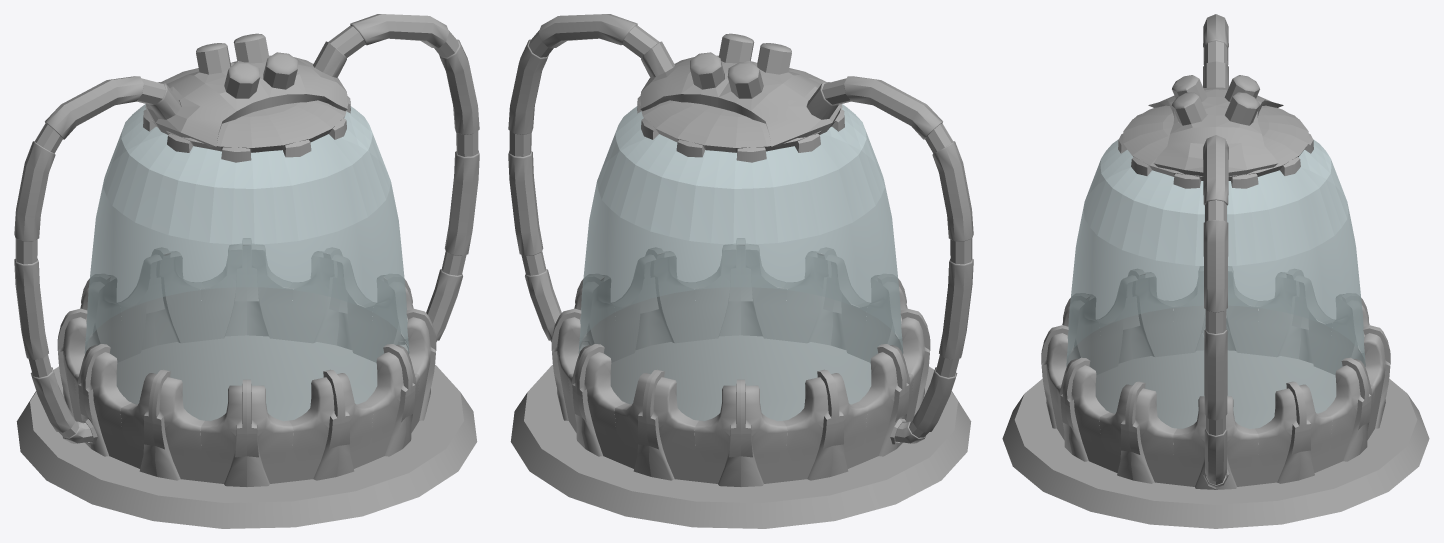
Rendered from Nanite_Container.fbx.
3 renders of one model, left to right at view 1: azimuth 30°, elevation 25°; view 2: azimuth 150°, elevation 25°; view 3: azimuth 270°, elevation 25°, orthographic. The views are drawn at different scales.
Visible parts, largest first — view 1: polySurface48, polySurface86, polySurface153, polySurface138, polySurface160, polySurface143, polySurface166, polySurface159, polySurface161, polySurface155, polySurface165, polySurface49 (+10 smaller); view 2: polySurface48, polySurface86, polySurface153, polySurface138, polySurface156, polySurface143, polySurface162, polySurface157, polySurface155, polySurface161, polySurface163, polySurface49 (+10 smaller); view 3: polySurface48, polySurface86, polySurface138, polySurface163, polySurface165, polySurface143, polySurface157, polySurface159, polySurface49, polySurface164, polySurface158, polySurface162 (+10 smaller).
Boxes of the visible parts, x1=… form: polySurface48: x1=84, y1=104, x2=409, y2=421; polySurface86: x1=16, y1=335, x2=477, y2=528; polySurface153: x1=14, y1=76, x2=180, y2=444; polySurface138: x1=313, y1=14, x2=479, y2=350; polySurface160: x1=200, y1=379, x2=293, y2=486; polySurface143: x1=146, y1=55, x2=347, y2=147; polySurface166: x1=201, y1=238, x2=292, y2=340; polySurface159: x1=120, y1=369, x2=204, y2=481; polySurface161: x1=289, y1=369, x2=373, y2=481; polySurface155: x1=121, y1=248, x2=204, y2=359; polySurface165: x1=289, y1=248, x2=372, y2=359; polySurface49: x1=145, y1=68, x2=348, y2=152; polySurface48: x1=578, y1=104, x2=903, y2=421; polySurface86: x1=510, y1=335, x2=971, y2=528; polySurface153: x1=807, y1=76, x2=973, y2=444; polySurface138: x1=508, y1=14, x2=674, y2=350; polySurface156: x1=694, y1=379, x2=787, y2=486; polySurface143: x1=640, y1=55, x2=841, y2=147; polySurface162: x1=695, y1=238, x2=786, y2=340; polySurface157: x1=783, y1=369, x2=867, y2=481; polySurface155: x1=614, y1=369, x2=698, y2=481; polySurface161: x1=783, y1=248, x2=866, y2=359; polySurface163: x1=615, y1=248, x2=698, y2=359; polySurface49: x1=639, y1=68, x2=842, y2=152; polySurface48: x1=1066, y1=139, x2=1365, y2=428; polySurface86: x1=1002, y1=350, x2=1429, y2=528; polySurface138: x1=1202, y1=135, x2=1229, y2=488; polySurface163: x1=1099, y1=381, x2=1176, y2=484; polySurface165: x1=1255, y1=381, x2=1332, y2=484; polySurface143: x1=1148, y1=87, x2=1283, y2=176; polySurface157: x1=1255, y1=269, x2=1331, y2=371; polySurface159: x1=1100, y1=269, x2=1176, y2=371; polySurface49: x1=1123, y1=105, x2=1308, y2=180; polySurface164: x1=1173, y1=396, x2=1258, y2=489; polySurface158: x1=1173, y1=266, x2=1258, y2=354; polySurface162: x1=1056, y1=357, x2=1109, y2=467.
Size of the model in its own units: 1.48 by 1.17 by 1.28.
